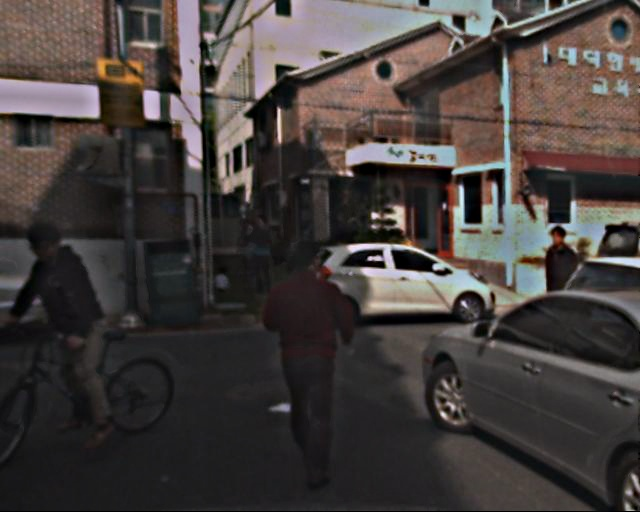person: (260, 243, 363, 488), (18, 221, 124, 444), (530, 224, 590, 372), (247, 213, 283, 295), (237, 219, 263, 282), (215, 262, 232, 301)
